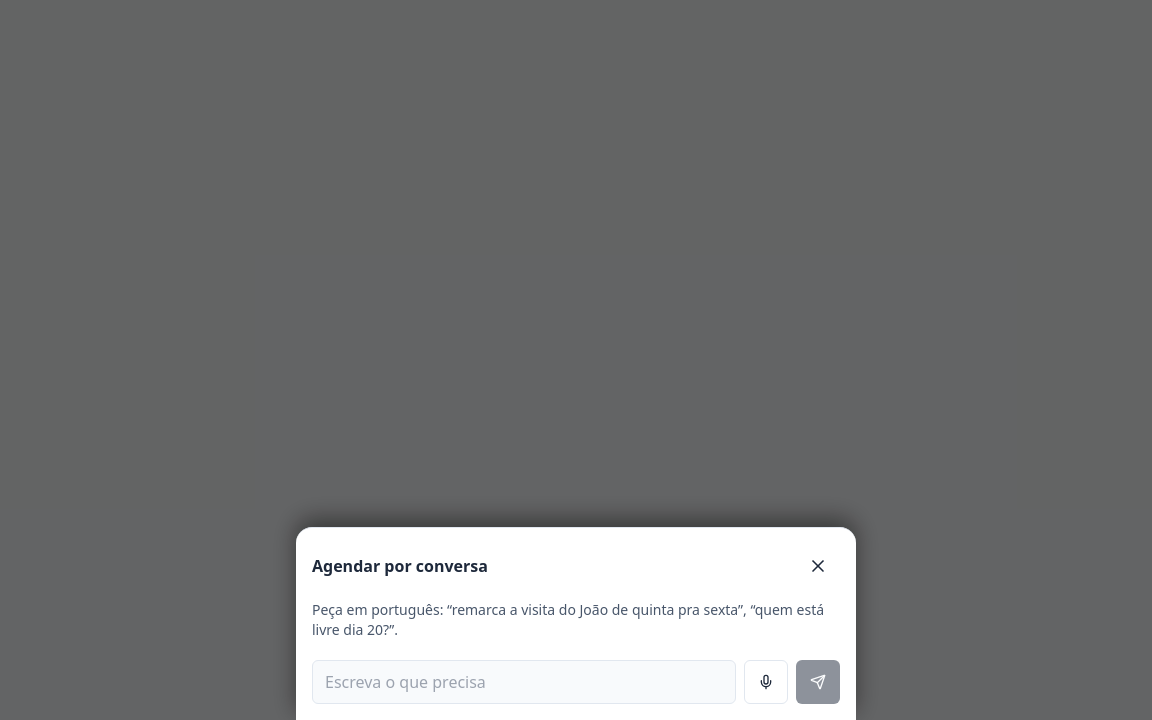
it: ChatAgenda › escrita proposta aparece como card falando humano: título pela OS, não pelo id
The width and height of the screenshot is (1152, 720).
In the field with placeholder "Escreva o que precisa": (524, 682) [312, 660, 736, 704], type "remarca pra sexta"
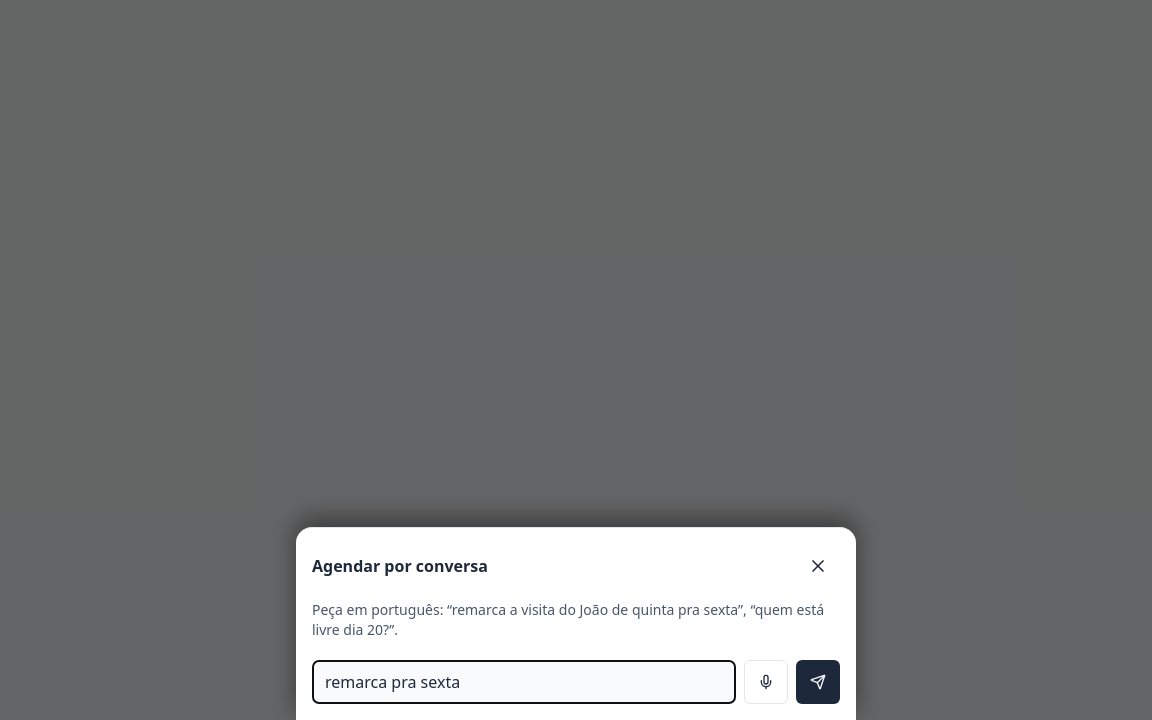
Click the button named "enviar": (818, 682) [796, 660, 840, 704]
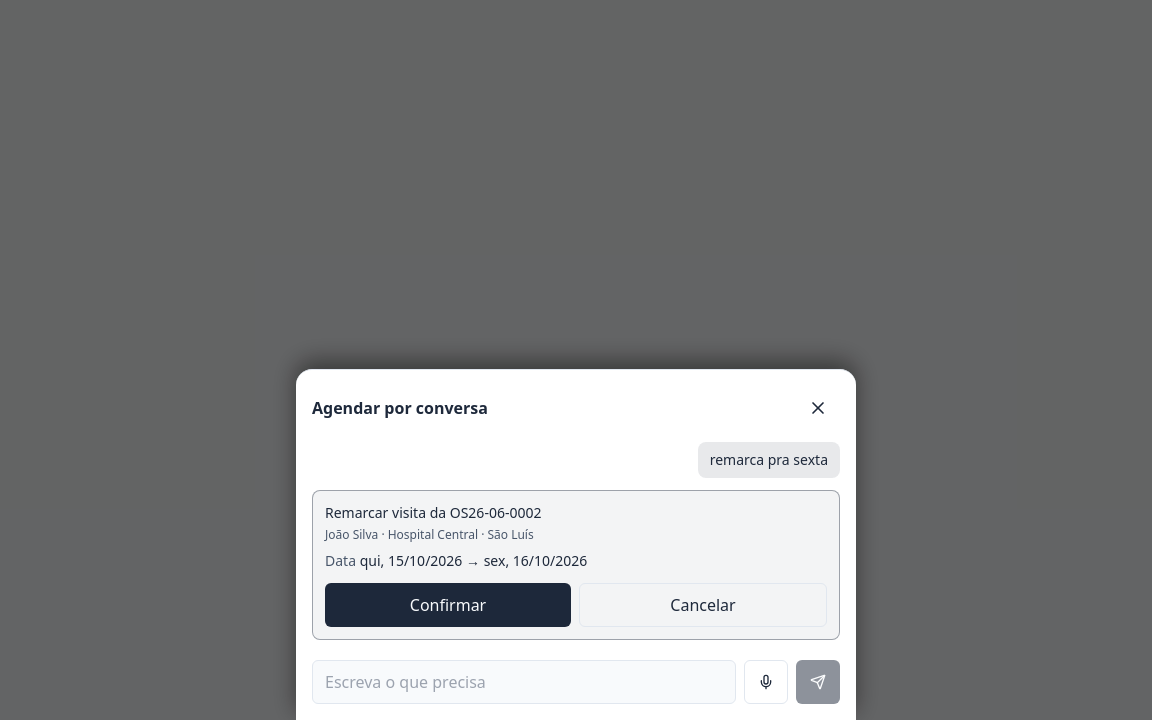
Result: the text "Remarcar visita da OS26-06-0002" is shown at [325, 503, 542, 522]
Result: the text "Data qui, 15/10/2026 → sex, 16/10/2026" is shown at [325, 551, 587, 570]
Result: the button "Confirmar" is shown at [325, 583, 571, 627]
